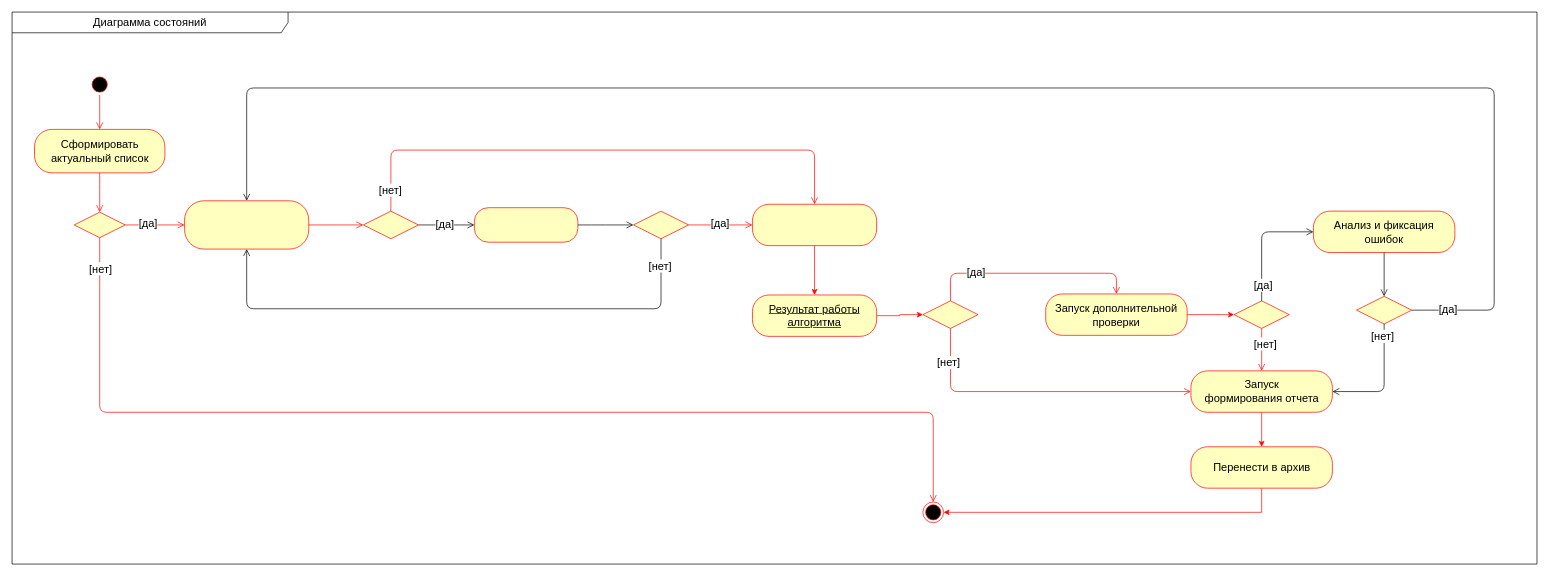
Image size: 1549x576. Some labels were removed from this diagram. Each missing label, with the centre of its shape:
"Запустить алгоритм" belongs at (814,225).
"Отфильтровать и уточнить условия" belongs at (246,224).
"Список (существует)" belongs at (526,224).
